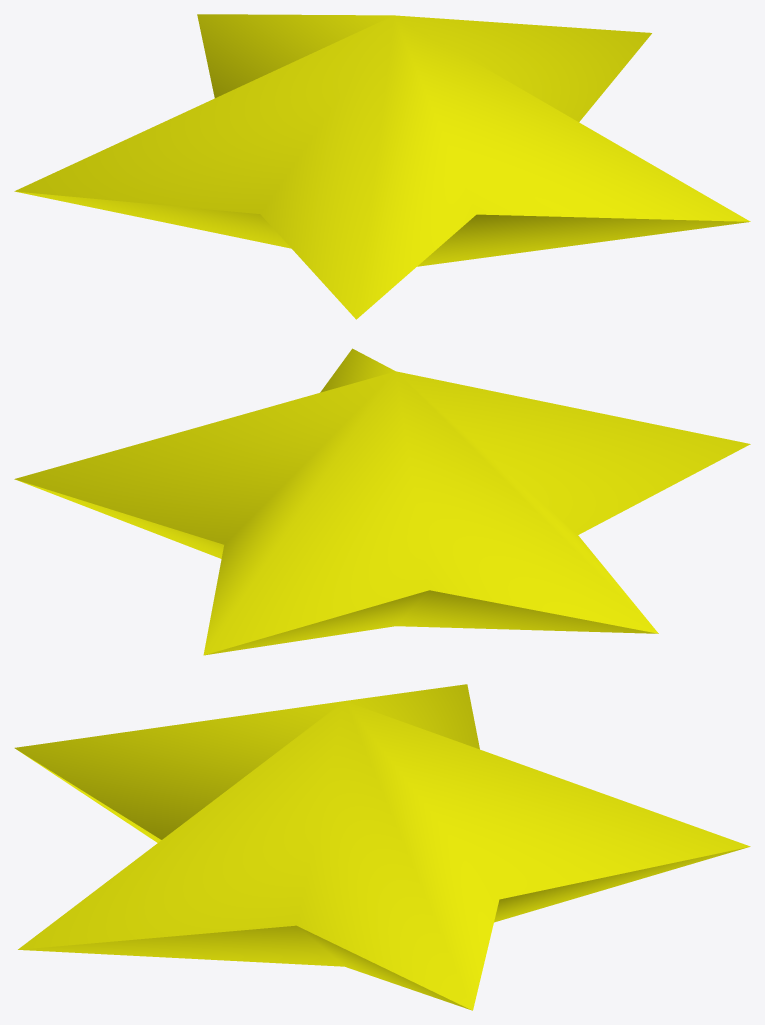
The model's file is star.fbx.
3 views of the same model, one above another, from view 1: azimuth 30°, elevation 25°; view 2: azimuth 150°, elevation 25°; view 3: azimuth 270°, elevation 25° (orthographic). The views are drawn at different scales.
Visible parts, largest first — view 1: pCylinder1; view 2: pCylinder1; view 3: pCylinder1.
Part boxes in pixels (x1=…): pCylinder1: x1=14, y1=14, x2=750, y2=319; pCylinder1: x1=14, y1=348, x2=750, y2=655; pCylinder1: x1=14, y1=684, x2=750, y2=1010.
Size of the model in its own units: 1.9 by 0.7212 by 1.81.
